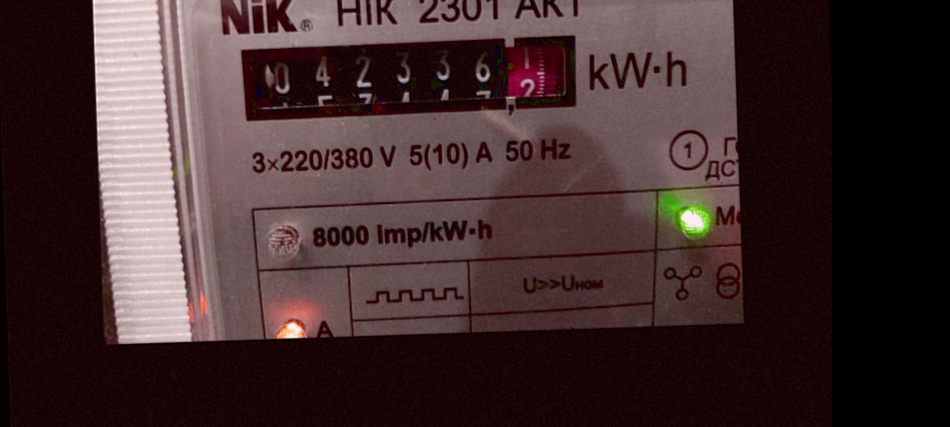0: (271, 60, 292, 96)
1: (519, 43, 533, 73)
2: (352, 54, 373, 90), (517, 77, 536, 99)
3: (393, 48, 413, 87), (431, 47, 452, 84)
4: (312, 52, 332, 90)
6: (470, 49, 493, 84)
screen: (232, 26, 587, 130)
